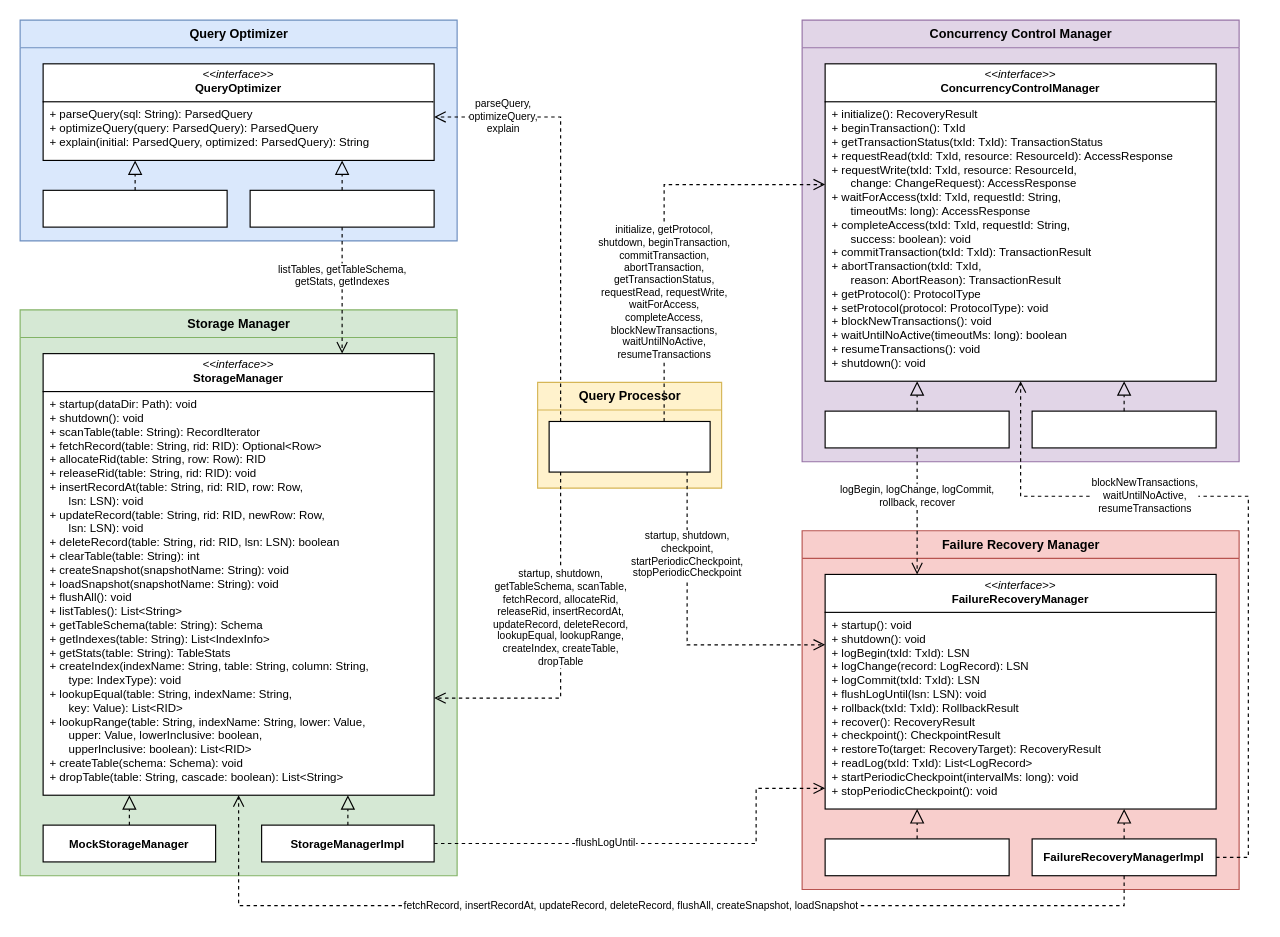
Image size: 1280x937. Some labels were removed from this diagram. Here are the shapes that lost their labels. From the top down, the box of each, then its label:
(42, 189, 227, 227): MockQueryOptimizer
(249, 189, 434, 227): QueryOptimizerImpl
(548, 420, 710, 472): <<pemakai, tanpa interface>> QueryProcessor
(824, 410, 1009, 448): ConcurrencyControlManagerImpl
(1031, 410, 1216, 448): MockConcurrencyControlManager
(824, 838, 1009, 876): MockFailureRecoveryManager
